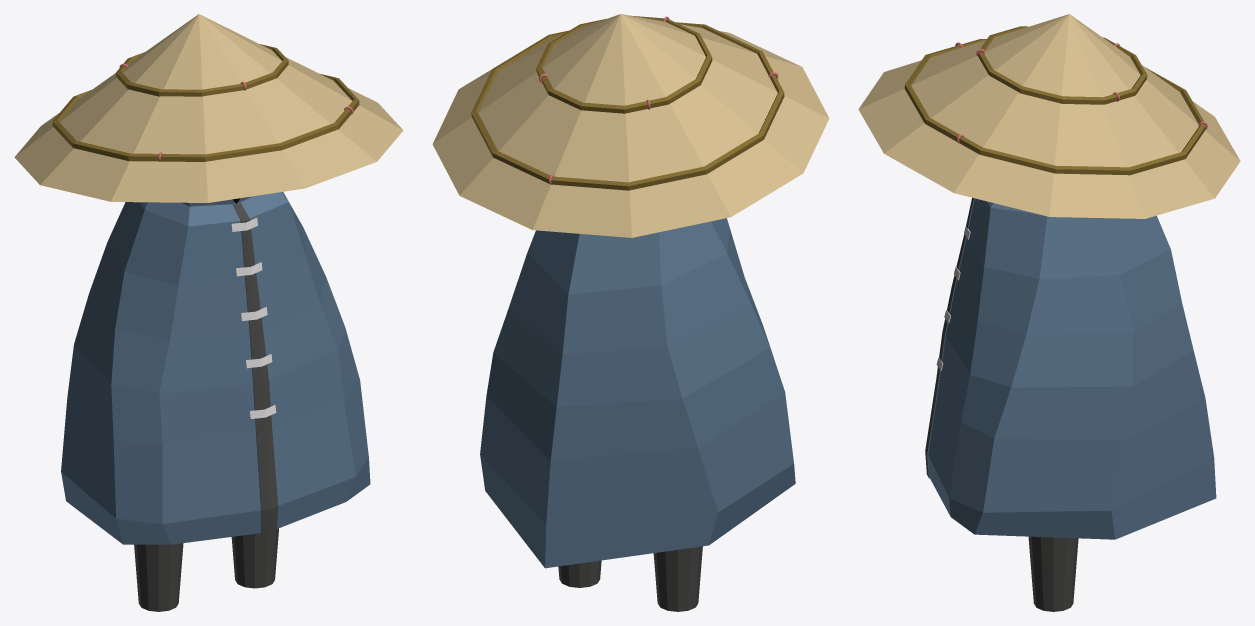
The model's file is ProtagDeath.fbx.
3 renders of one model, left to right at view 1: azimuth 30°, elevation 25°; view 2: azimuth 150°, elevation 25°; view 3: azimuth 270°, elevation 25°, orthographic. The views are drawn at different scales.
Parts seen in each view (by area): view 1: RightRig; view 2: RightRig; view 3: RightRig.
Boxes of the visible parts, box(x1,y1,x2,y2) form: RightRig: box(14, 14, 403, 611); RightRig: box(432, 14, 829, 611); RightRig: box(858, 14, 1240, 611).
Size of the model in its own units: 1.52 by 2.46 by 1.51.
